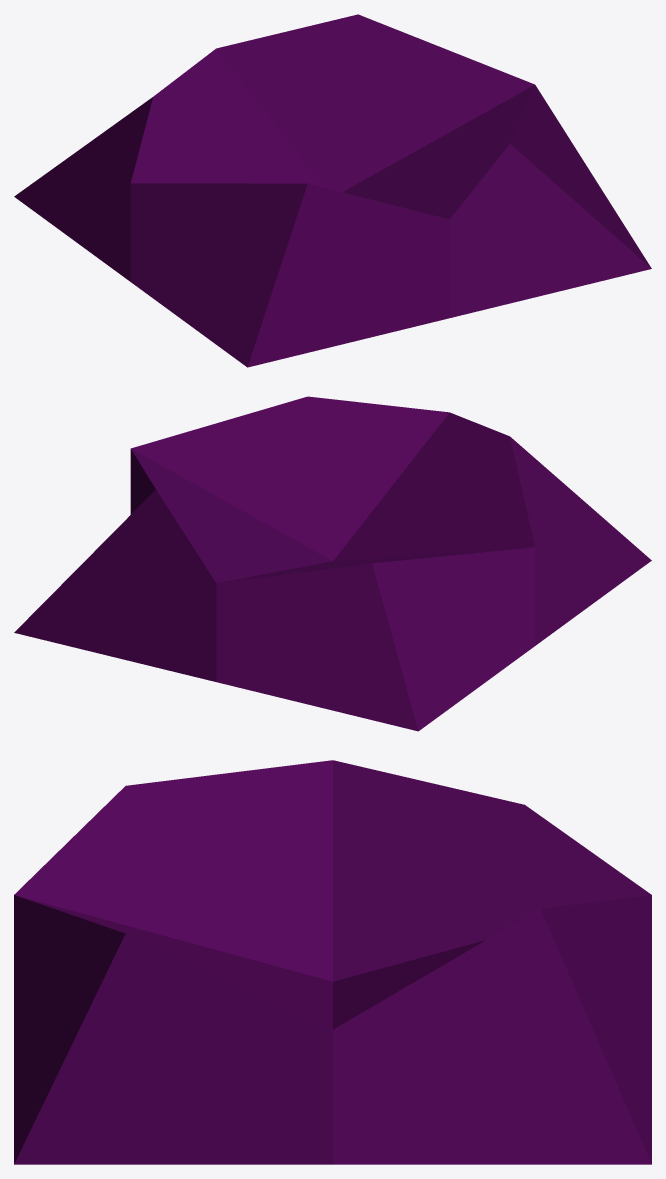
The model's file is Teleport_2_model.fbx.
The picture shows the model from 3 angles, top to bottom: view 1: azimuth 30°, elevation 25°; view 2: azimuth 150°, elevation 25°; view 3: azimuth 270°, elevation 25°; orthographic projection. The views are drawn at different scales.
Visible parts, largest first — view 1: Cube; view 2: Cube; view 3: Cube.
Boxes of the visible parts, left/top/right/bottom form: Cube: left=14, top=14, right=651, bottom=367; Cube: left=14, top=396, right=651, bottom=731; Cube: left=14, top=760, right=651, bottom=1164.
Bounding box in the file's own units: 200 × 65.29 × 200.
